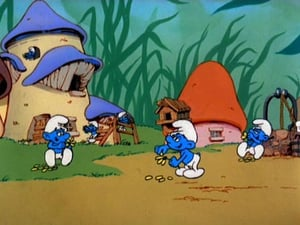smurf: (153, 119, 207, 180), (40, 114, 77, 168), (235, 117, 272, 160)
